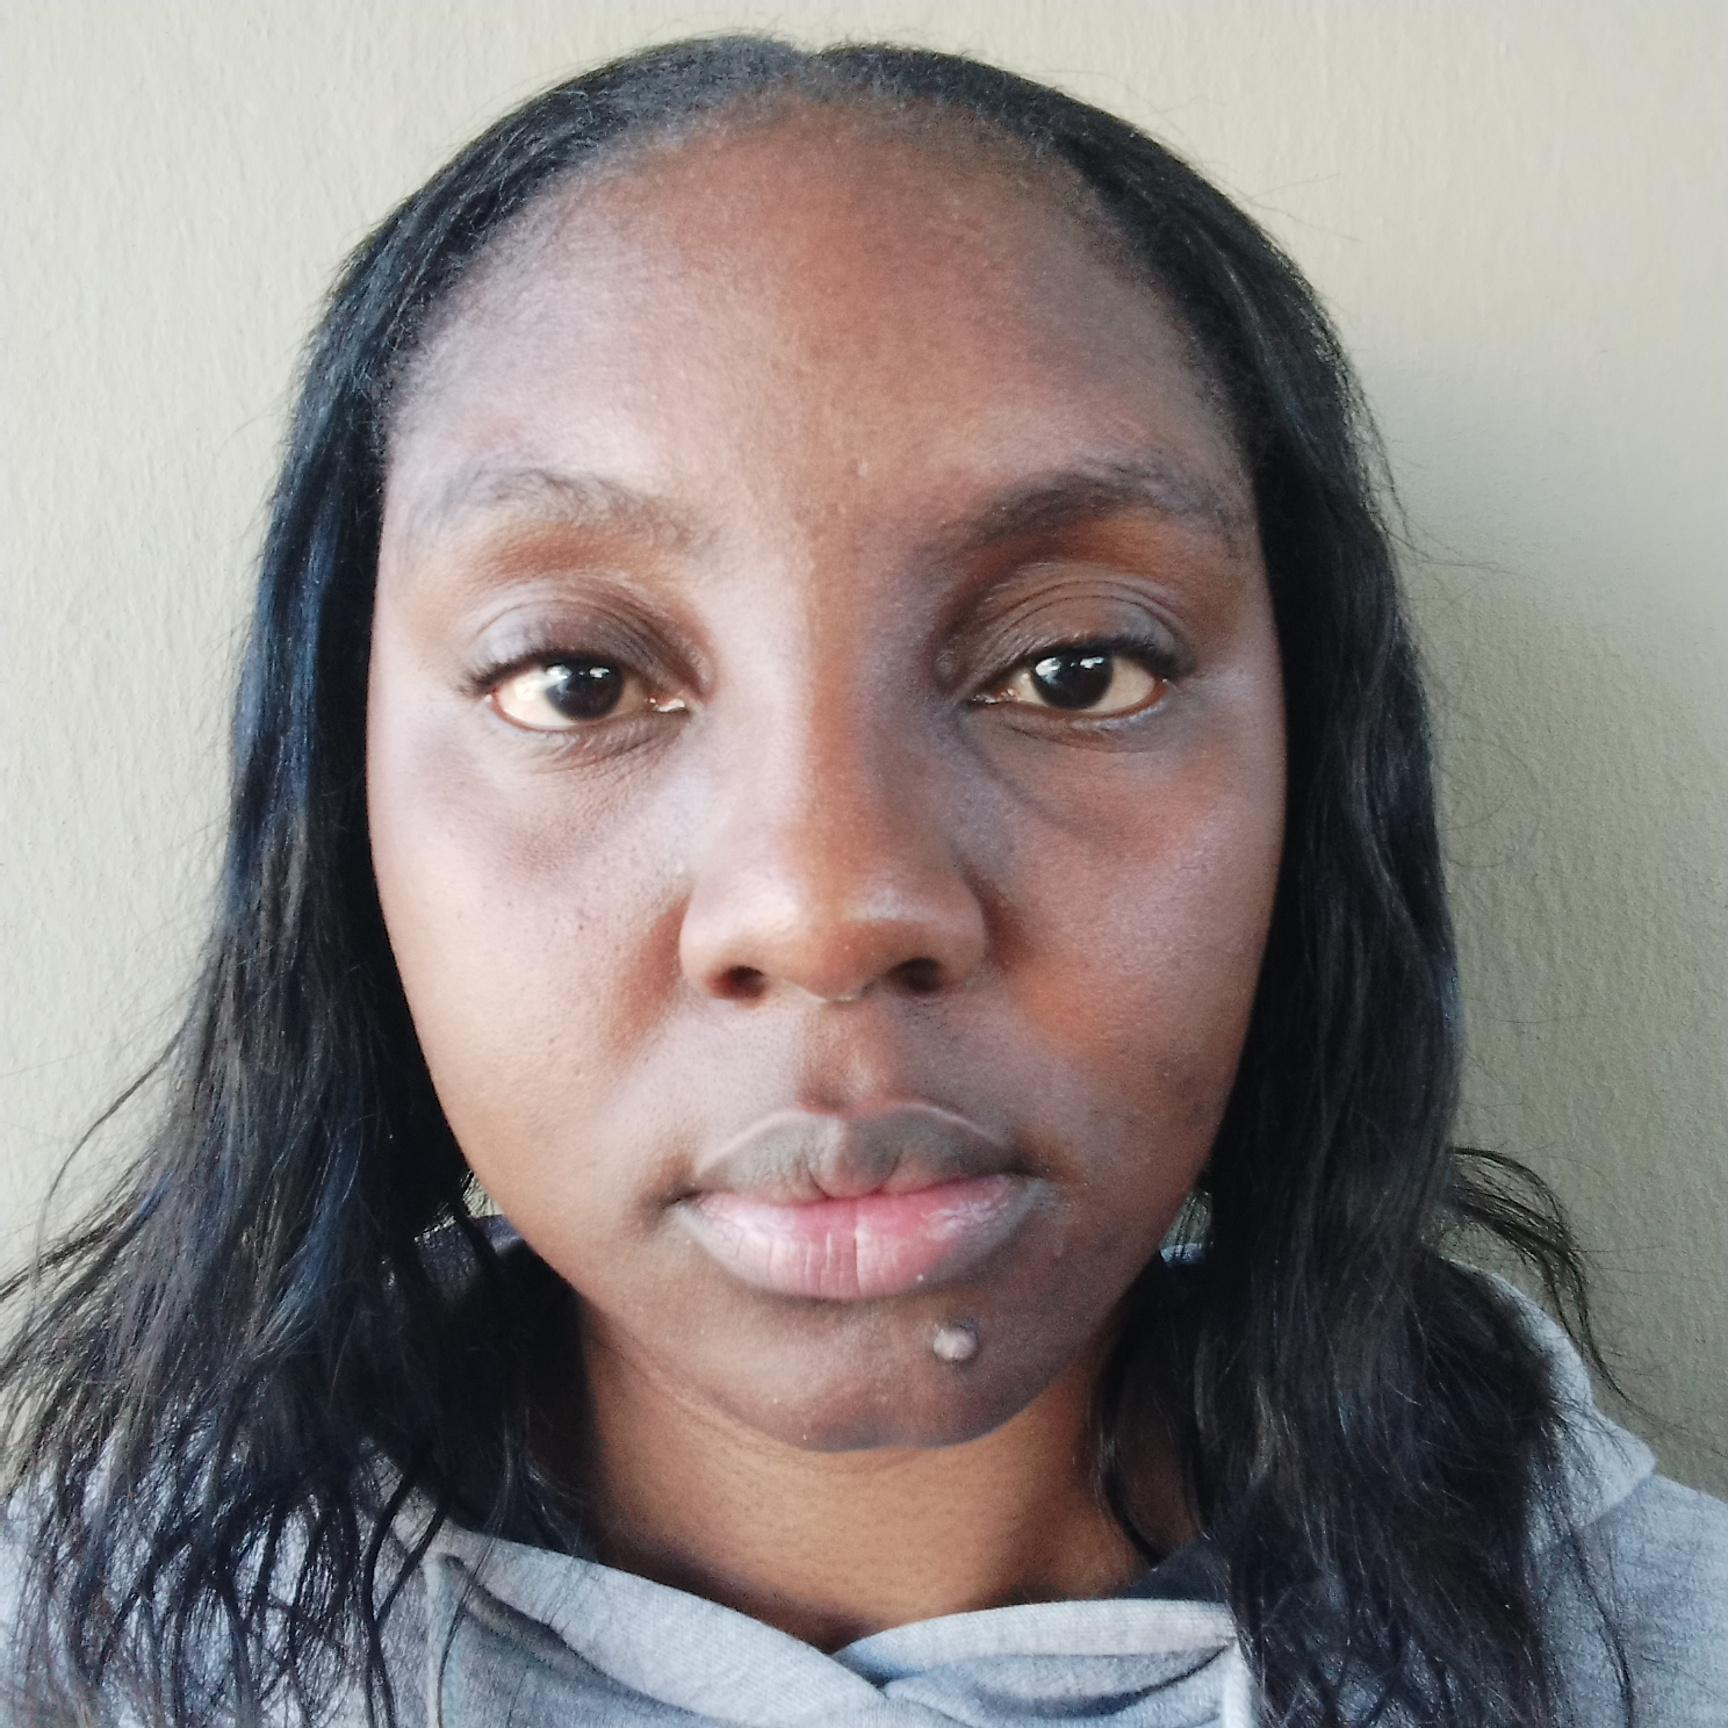Acne: (1149, 1052, 1209, 1138), (918, 1318, 992, 1375), (1043, 1242, 1065, 1269)
Englarged-Pores: (541, 907, 625, 943)
